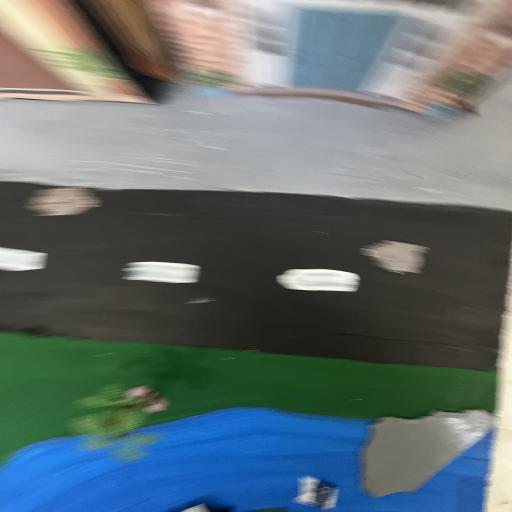encroachment: (356, 406, 500, 499)
porthole: (360, 236, 434, 279), (25, 183, 103, 219)
trash: (163, 474, 334, 512)
